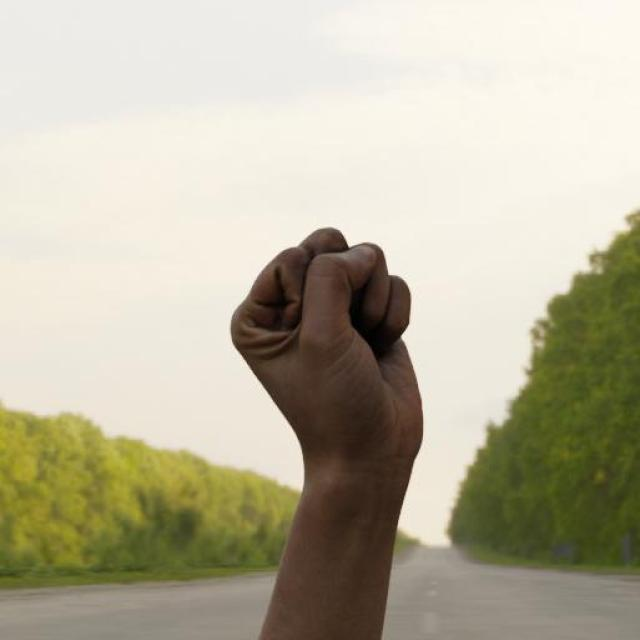S: (227, 223, 429, 475)
